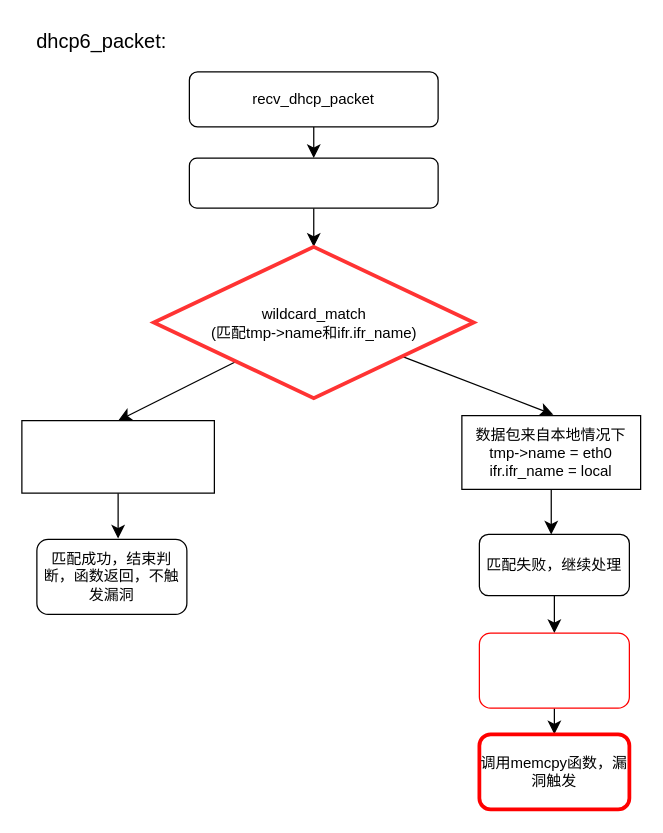
Image size: 663x833. Some labels were removed from this diagram. The box of each missing label's shape, as (x1, y1, x2, y2) in pixels:
relay_reply6: (188, 157, 438, 208)
数据包来自远程情况下 tmp->name = eth0 ifr.ifr_name = eth0: (21, 419, 214, 493)
调用dhcp_maybe_relay 函数: (478, 632, 629, 708)
